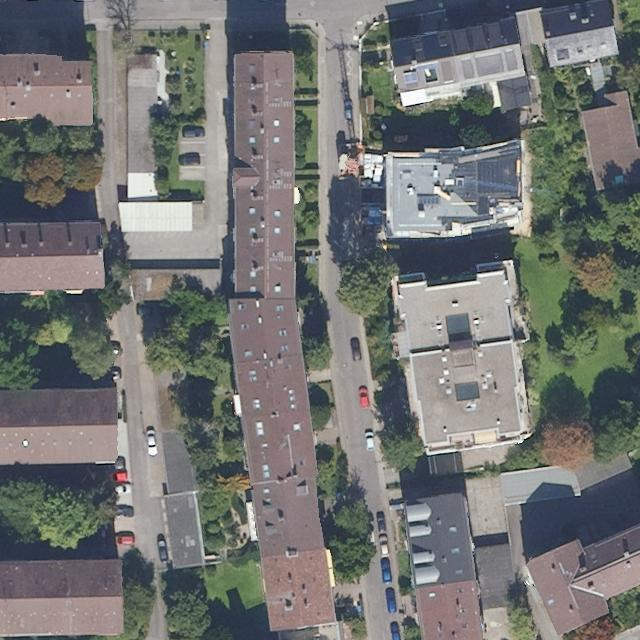PV: (416, 62, 440, 72), (403, 71, 419, 84)
